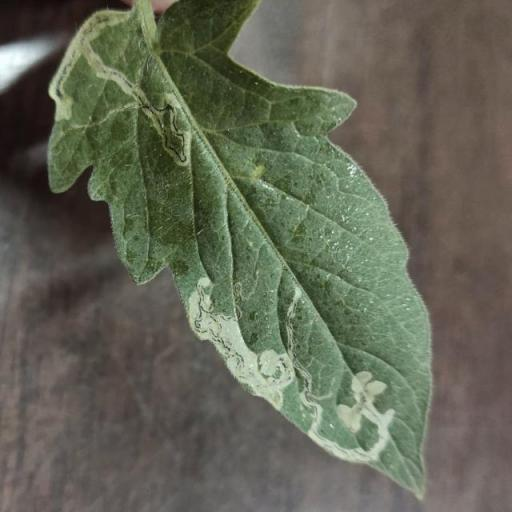disease_tomato: (45, 0, 435, 503)
